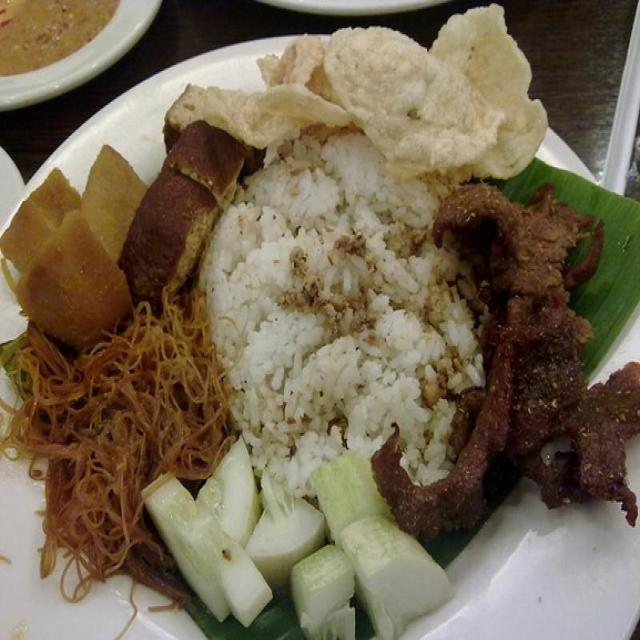米饭主食: (21, 44, 613, 621)
